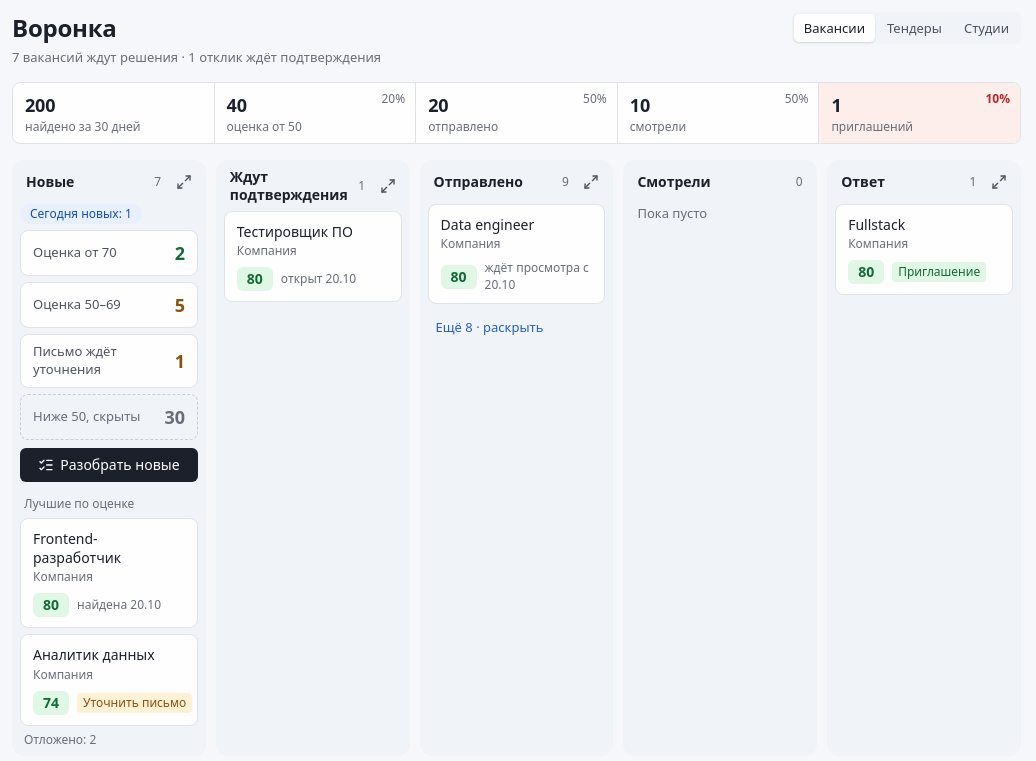
Test case: BoardPage › shows the funnel and the board, «Разобрать новые» opens the best band as a working list
The width and height of the screenshot is (1036, 761).
Expected: the number of list items is 5, [25,93,140,135]; [214,83,415,143]; [415,83,617,143]; [617,83,818,143]; [818,83,1020,143]
Expected: the text "20%" is shown, [382,91,405,107]
Click the button "Разобрать новые": (109, 465) [20,448,198,482]
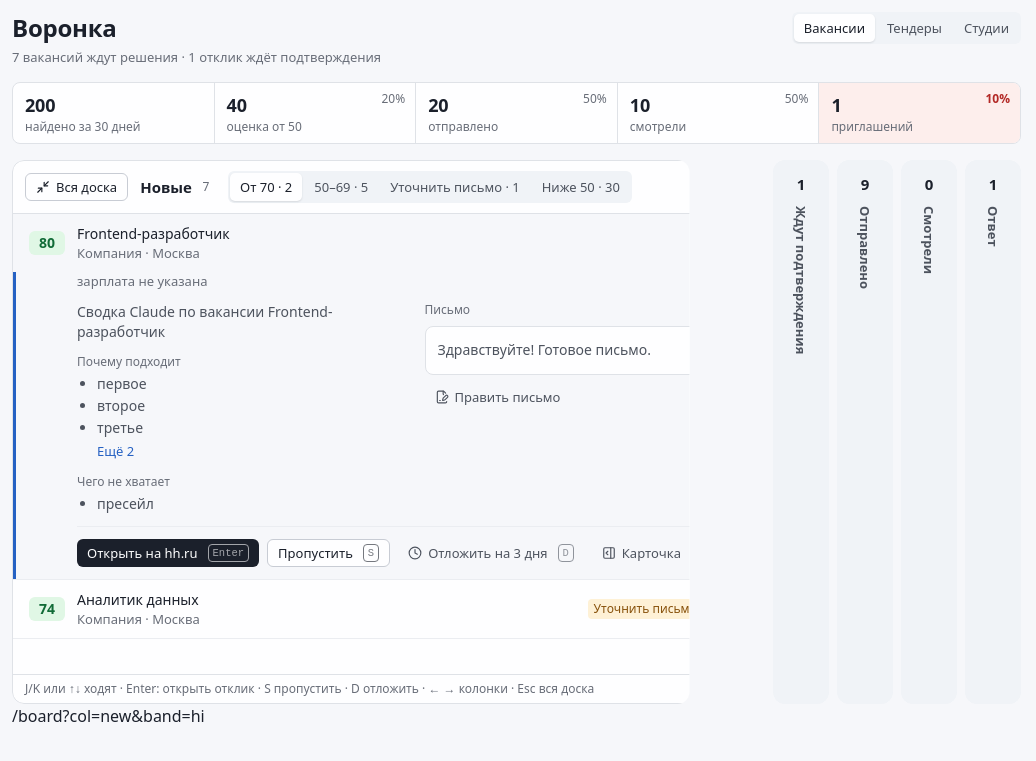
Expected: the text with test id "location" reads "/board?col=new&band=hi", [12,705,205,727]
Expected: the text "Сводка Claude по вакансии Frontend-разработчик" is shown, [77,302,332,341]
Expected: the button "Ещё 2" is shown, [97,442,134,460]
